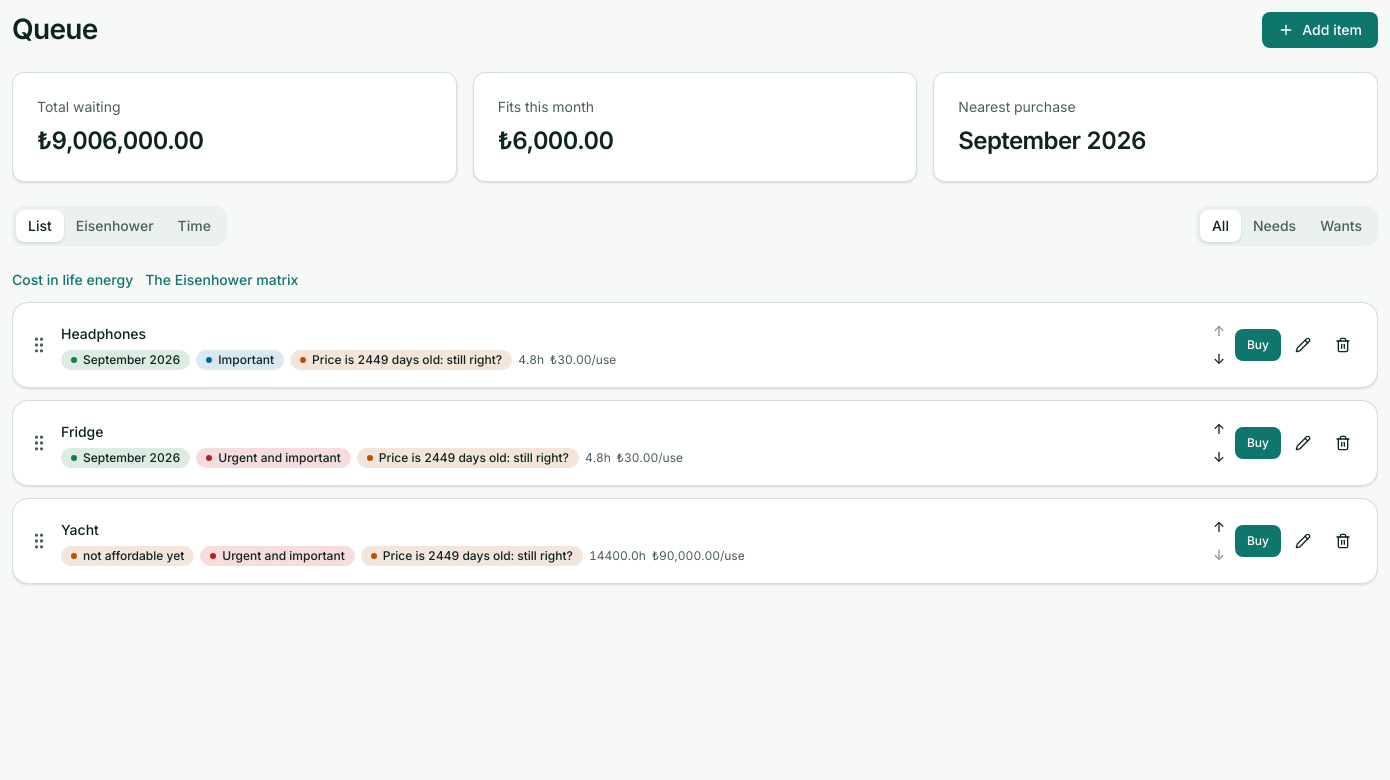
Test: Queue views and filters › filters to needs or wants and hides reordering while filtered
This screenshot has width=1390, height=780.
Expected: the button named "Drag Headphones to reorder" is shown, [29,335,49,355]
Click the radio button labelled "Needs" at point(1274, 226), box [1253,217,1296,234]
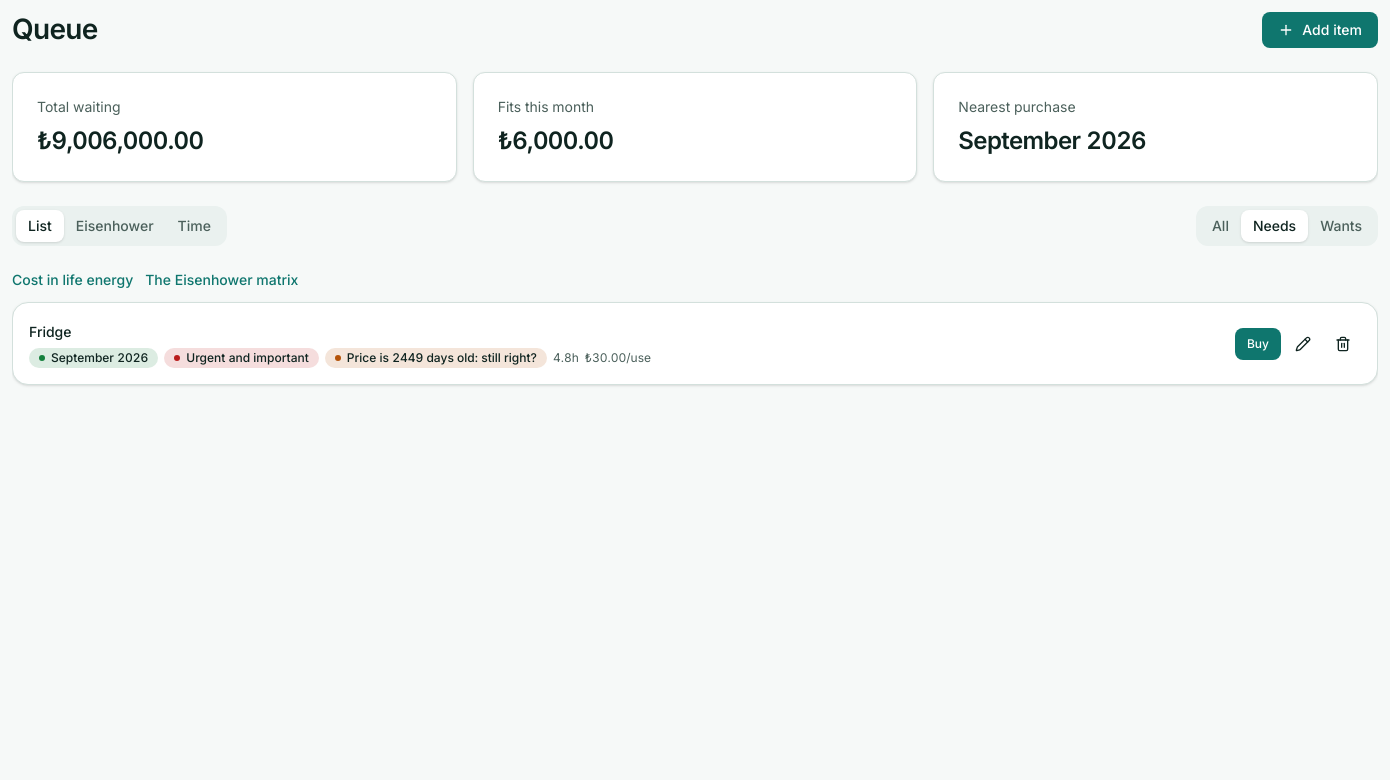
Expected: the list item with test id "queue-item-r" is shown, [12,302,1378,385]
Now the list item with test id "queue-item-h" is gone
Click the radio button labelled "Wants" at point(1341, 226), box [1320,217,1362,234]
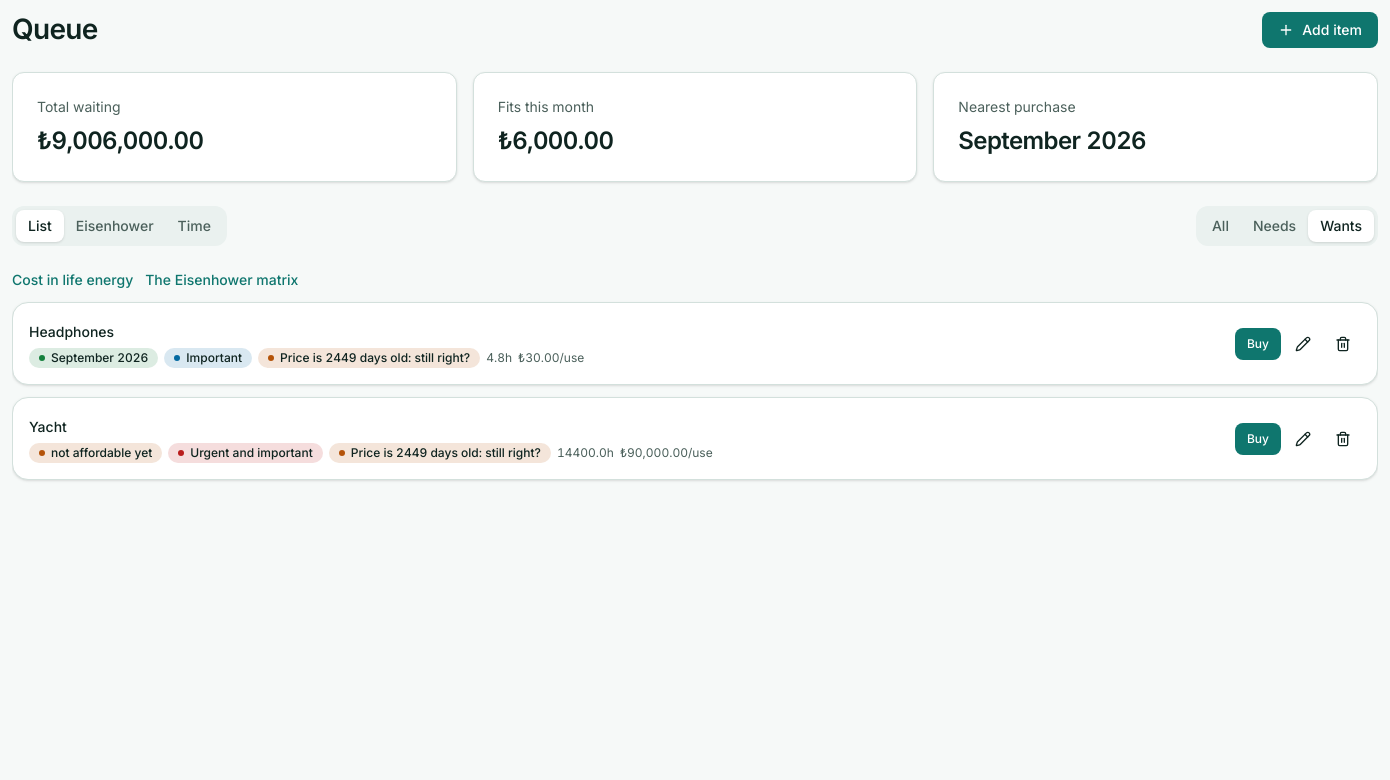
Now the list item with test id "queue-item-h" is shown, box [12,302,1378,385]
Now the list item with test id "queue-item-r" is gone
Click the radio button labelled "All" at point(1220, 226), box [1212,217,1229,234]
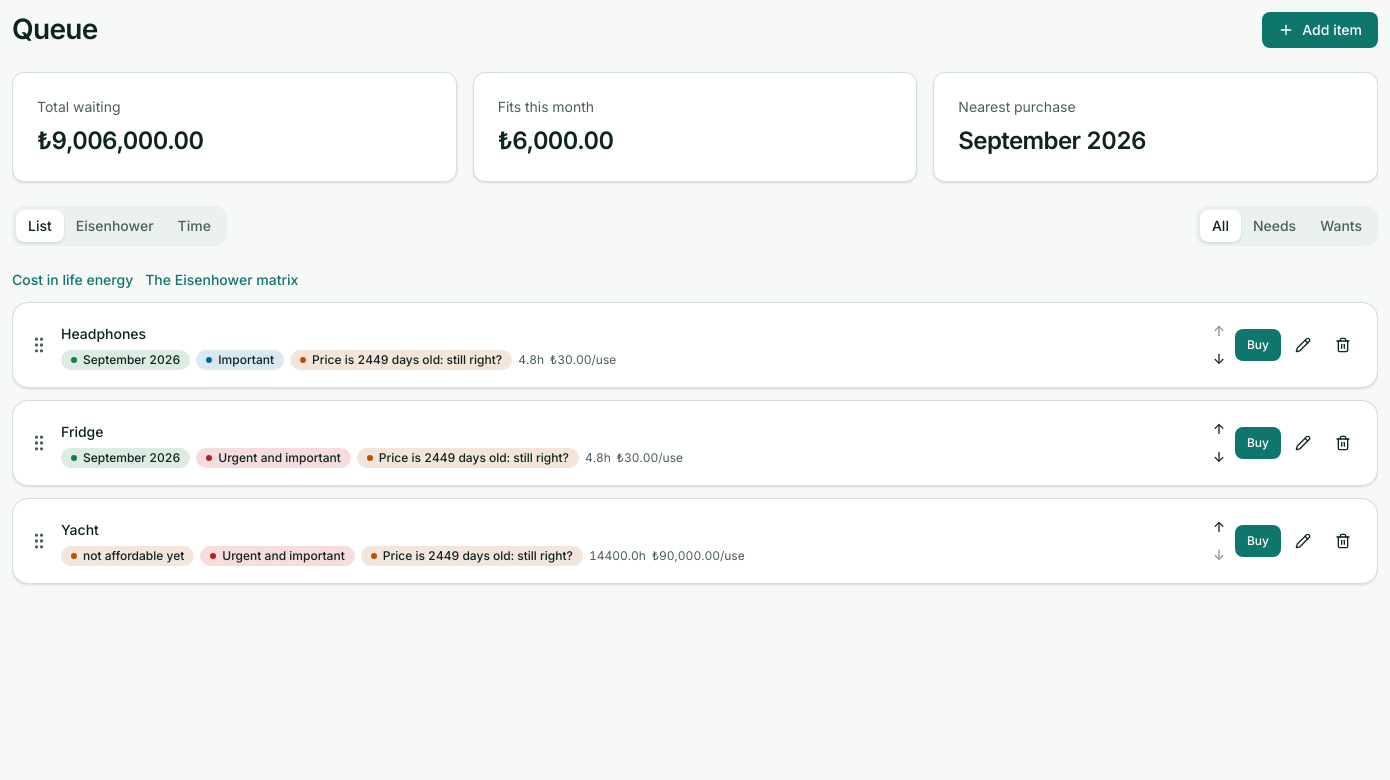
Now the button named "Drag Headphones to reorder" is shown, box [29,335,49,355]
